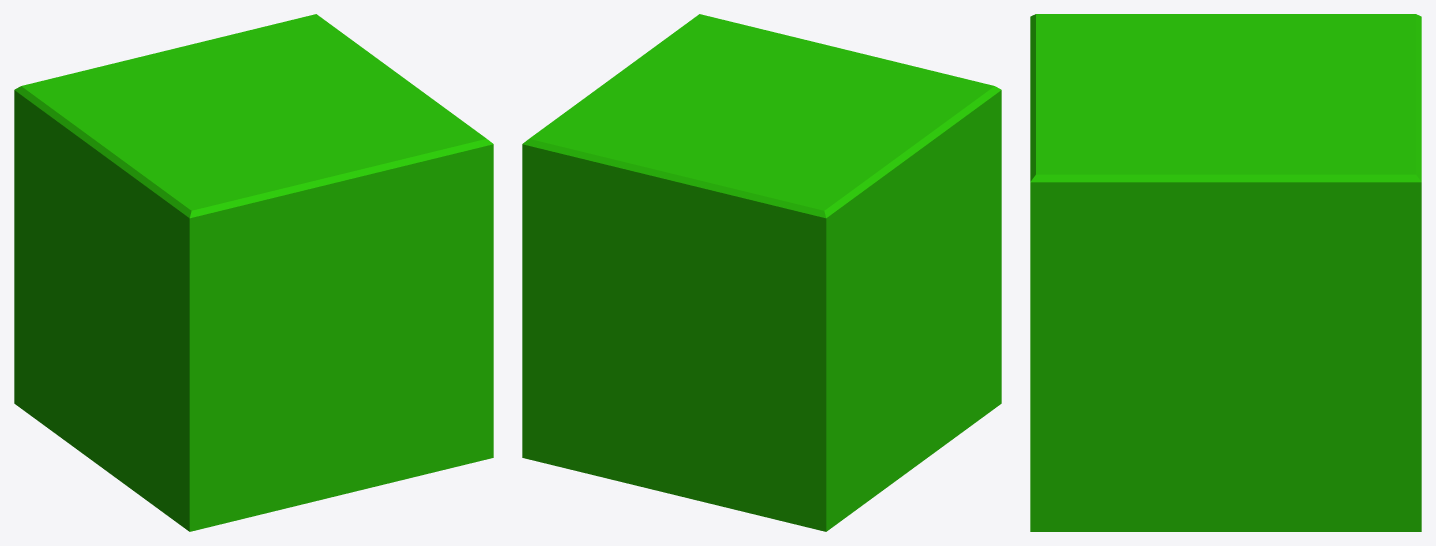
Rendered from green.glb.
3 renders of one model, left to right at view 1: azimuth 30°, elevation 25°; view 2: azimuth 150°, elevation 25°; view 3: azimuth 270°, elevation 25°, orthographic. The views are drawn at different scales.
Parts seen in each view (by area): view 1: Green; view 2: Green; view 3: Green.
Part boxes in pixels (left/top/right/bottom): Green: left=14, top=14, right=493, bottom=531; Green: left=522, top=14, right=1001, bottom=531; Green: left=1030, top=14, right=1421, bottom=531.
Bounding box in the file's own units: 2 × 2 × 2.
